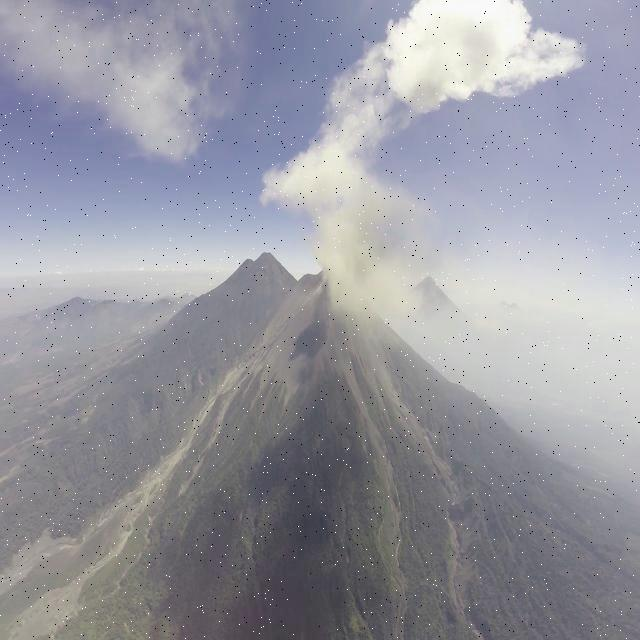Plume: (5, 0, 245, 168), (258, 132, 436, 336), (382, 2, 596, 108)
